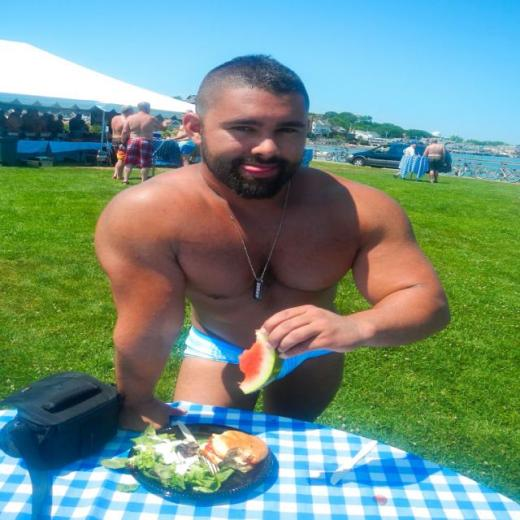Cherry: (235, 327, 276, 395)
